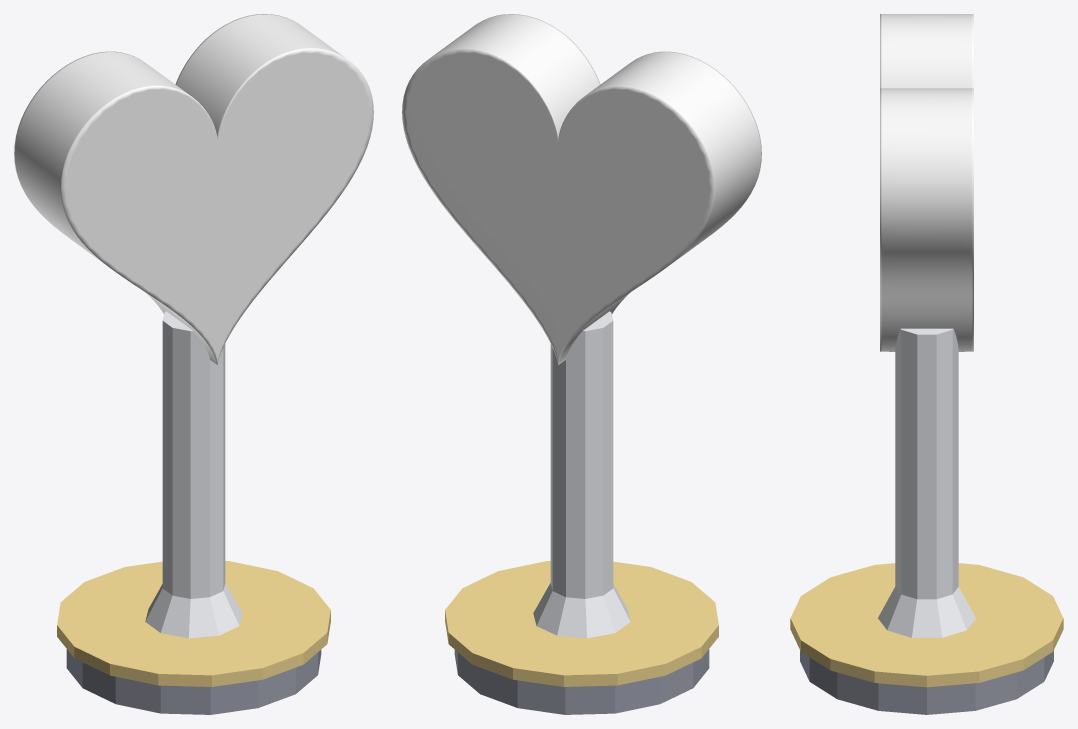
The model's file is heart-stop.glb.
3 renders of one model, left to right at view 1: azimuth 30°, elevation 25°; view 2: azimuth 150°, elevation 25°; view 3: azimuth 270°, elevation 25°, orthographic.
Visible parts, largest first — view 1: heart, post; view 2: heart, post; view 3: post, heart.
Part boxes in pixels (<box>): heart: <box>14,14,373,364</box>; post: <box>57,311,330,714</box>; heart: <box>402,14,761,364</box>; post: <box>445,311,718,714</box>; post: <box>790,328,1063,714</box>; heart: <box>880,14,973,351</box>.
Size of the model in its own units: 0.5617 by 1.05 by 0.43.
